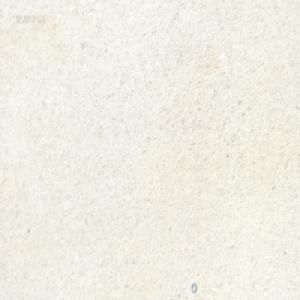Washer: (190, 281, 196, 293)
